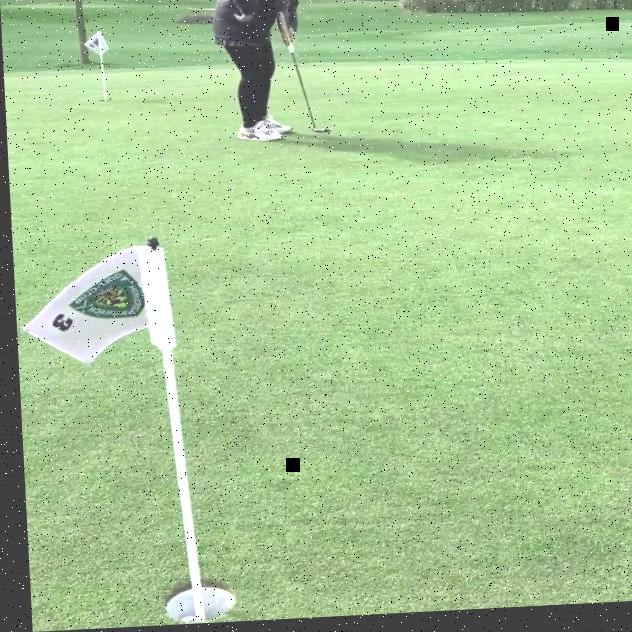ClubHead: (311, 130, 327, 136)
GolfBall: (172, 617, 190, 626)
